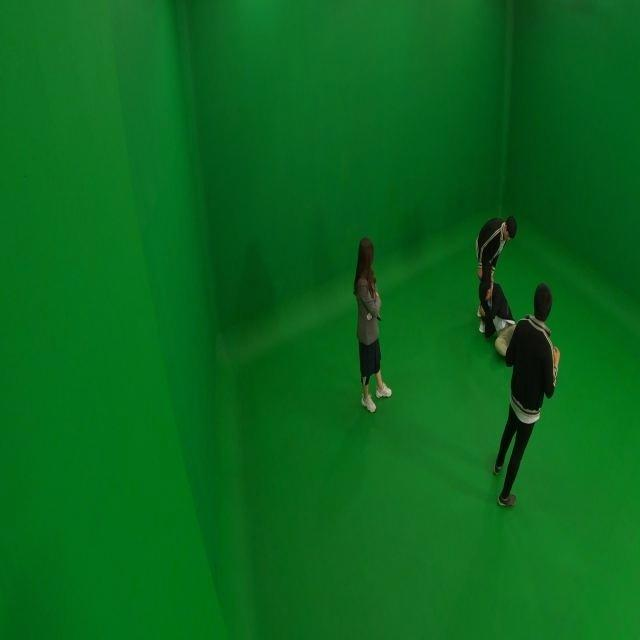non-fight: (490, 280, 558, 511), (352, 237, 392, 412), (473, 211, 517, 334), (477, 282, 520, 366)
